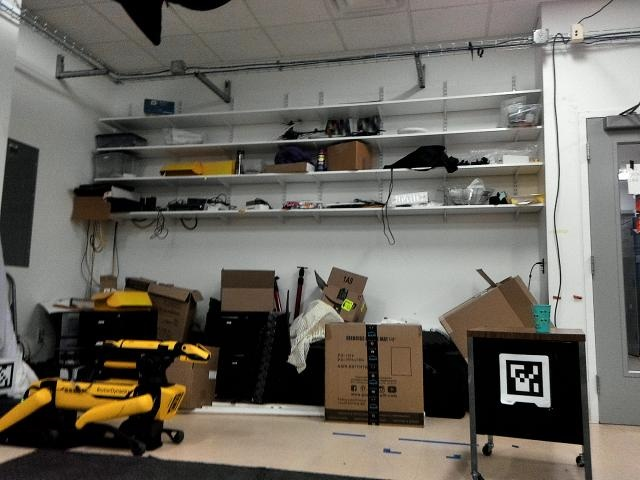coffee_cup: (531, 303, 552, 333)
